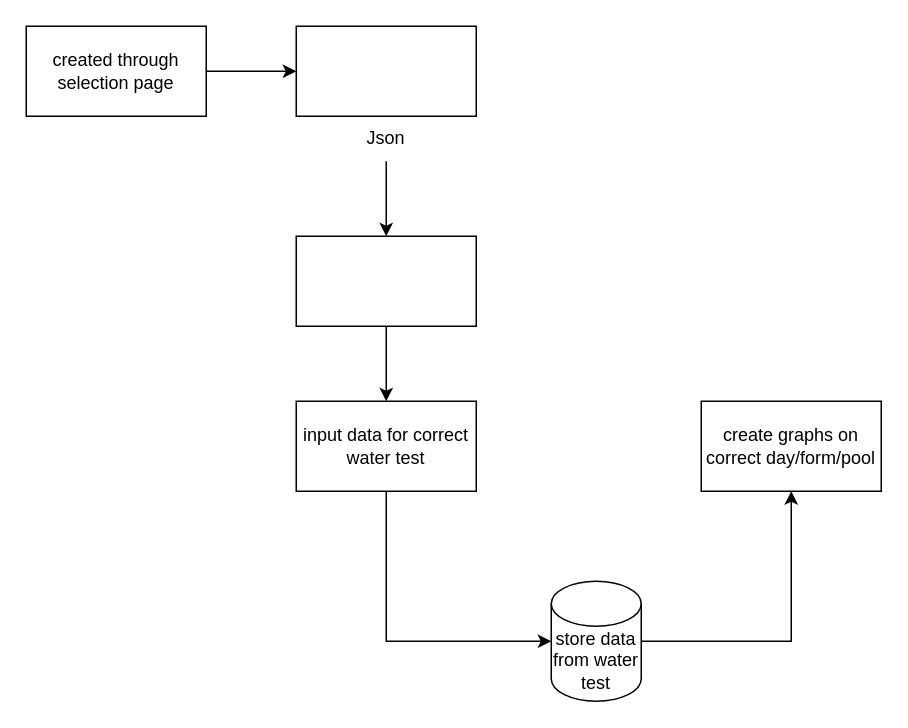
This 908x728 diagram has some shape labels left out. The shapes that lost their labels are listed below. From the top down, each one's box as (x1, y1, x2, y2) in pixels, then its label:
(295, 25, 476, 116): weekly water testing schedule
(295, 235, 476, 326): on load of form, advise on future water tests
